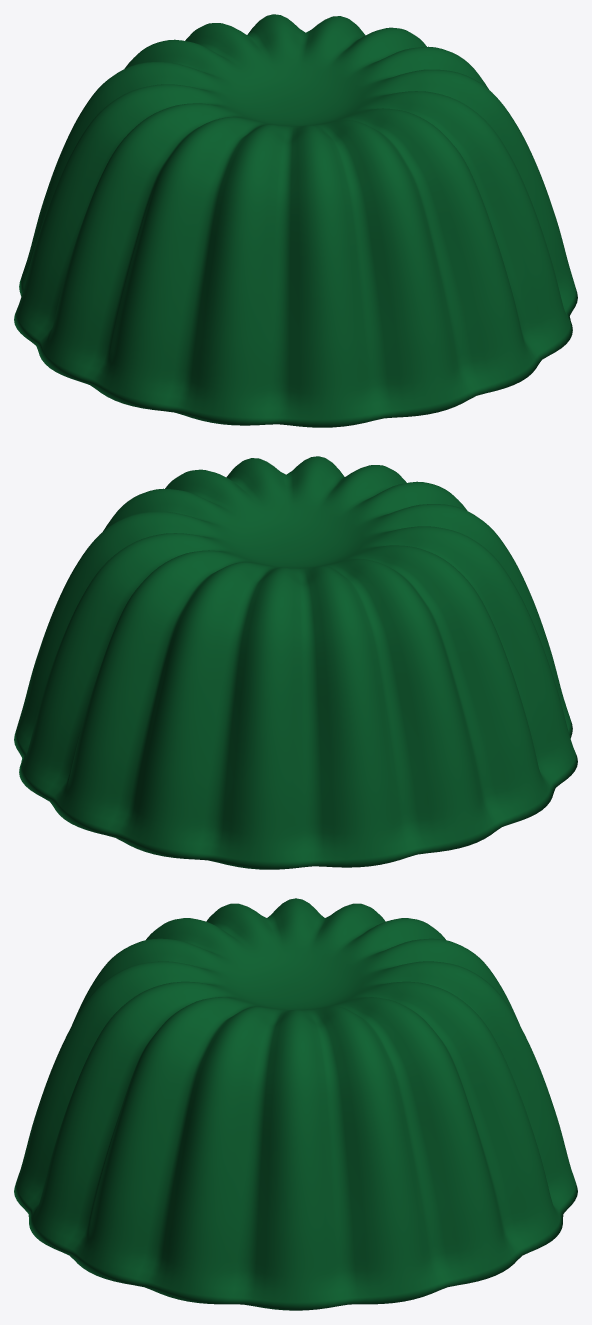
File: wackelpudding.glb
3 views of the same model, one above another, from view 1: azimuth 30°, elevation 25°; view 2: azimuth 150°, elevation 25°; view 3: azimuth 270°, elevation 25° (orthographic).
Visible parts, largest first — view 1: Jelly; view 2: Jelly; view 3: Jelly.
Part boxes in pixels (x1,y1,x2,y2): Jelly: (14, 14, 577, 427); Jelly: (14, 456, 577, 869); Jelly: (14, 898, 577, 1310).
Bounding box in the file's own units: 0.152 × 0.068 × 0.152.
